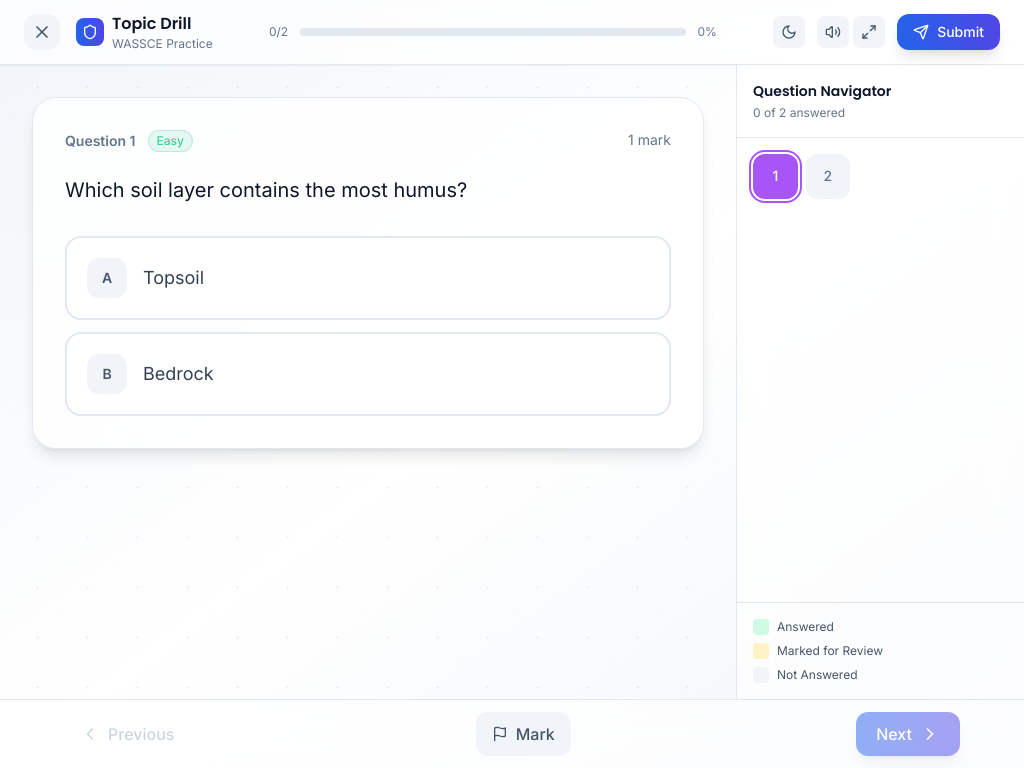
Test case: ExamModePractice question transition › surfaces a failed attempt, allows retry, and advances after the retry succeeds
What coordinates should you click on to do the following:
click the button "A Topsoil"
I would click on:
 (107, 278)
Its box is [65,236,671,320].
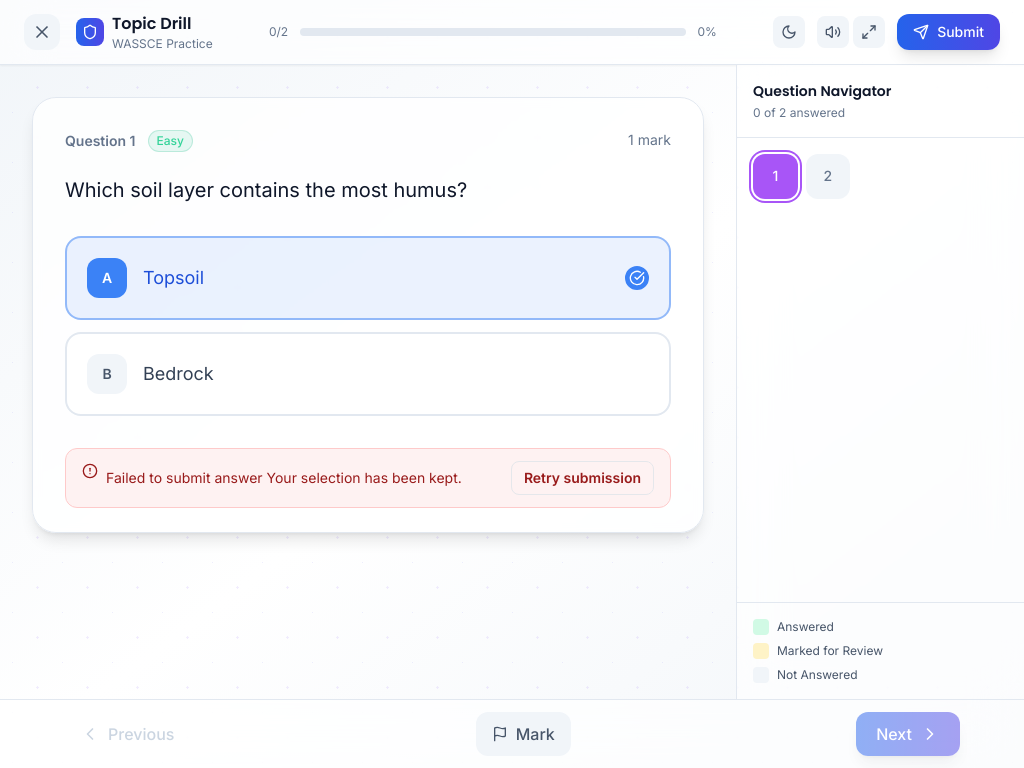
Expected: the button "Next" is disabled, [856,712,960,756]
Now the text "Failed to submit answer" is shown, box [106,469,263,486]
What coordinates should you click on to do the following:
click the button "Retry submission"
I would click on:
 (582, 478)
Its box is [511,461,654,495].
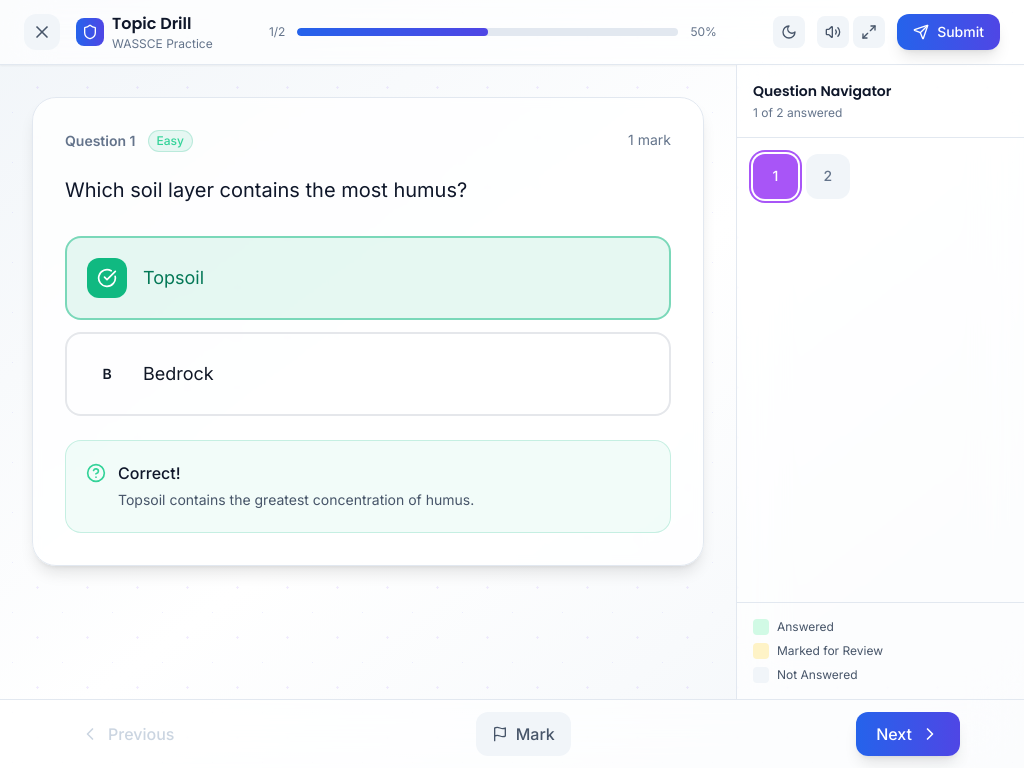
Now the button "Next" is enabled
What coordinates should you click on to do the following:
click the button "Next"
I would click on:
 (908, 734)
Its box is [856,712,960,756].
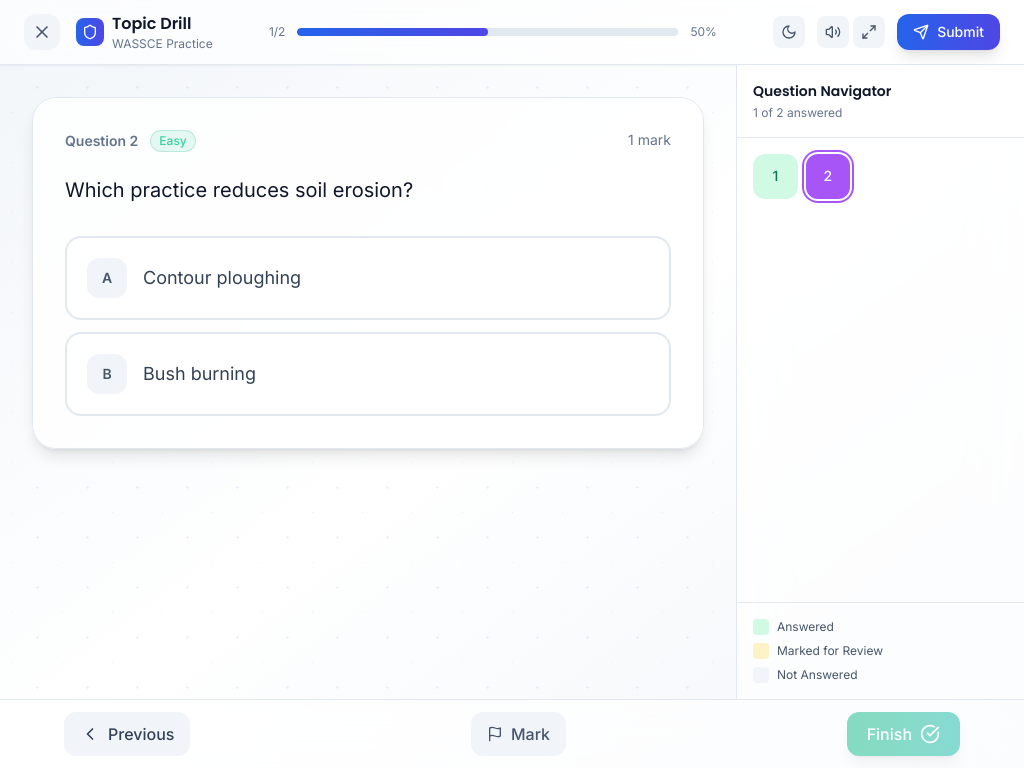
Now the text "Question 2" is shown, box [65,131,138,151]
Now the text "Which practice reduces soil erosion?" is shown, box [65,178,413,202]
